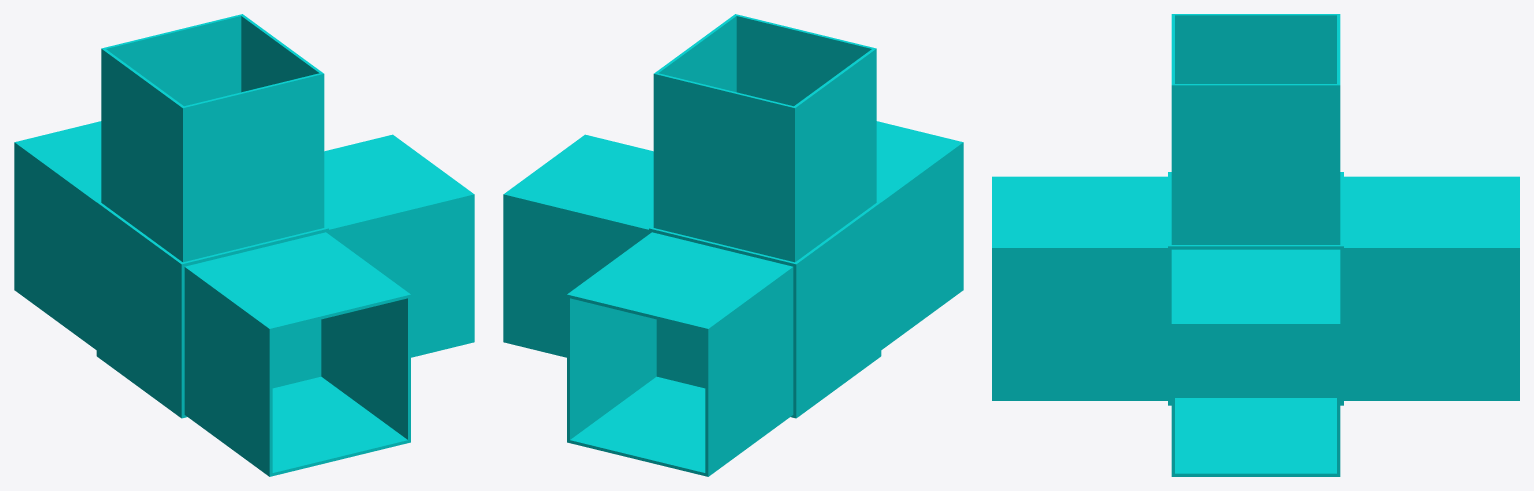
3 views of the same model, side by side, from view 1: azimuth 30°, elevation 25°; view 2: azimuth 150°, elevation 25°; view 3: azimuth 270°, elevation 25° (orthographic). The views are drawn at different scales.
Parts seen in each view (by area): view 1: <组件#5>_1; view 2: <组件#5>_1; view 3: <组件#5>_1.
Boxes of the visible parts, box(x1,y1,x2,y2) form: <组件#5>_1: box(14, 14, 474, 476); <组件#5>_1: box(503, 14, 963, 476); <组件#5>_1: box(992, 14, 1519, 476).
Bounding box in the file's own units: 15.75 × 15.75 × 23.62.
